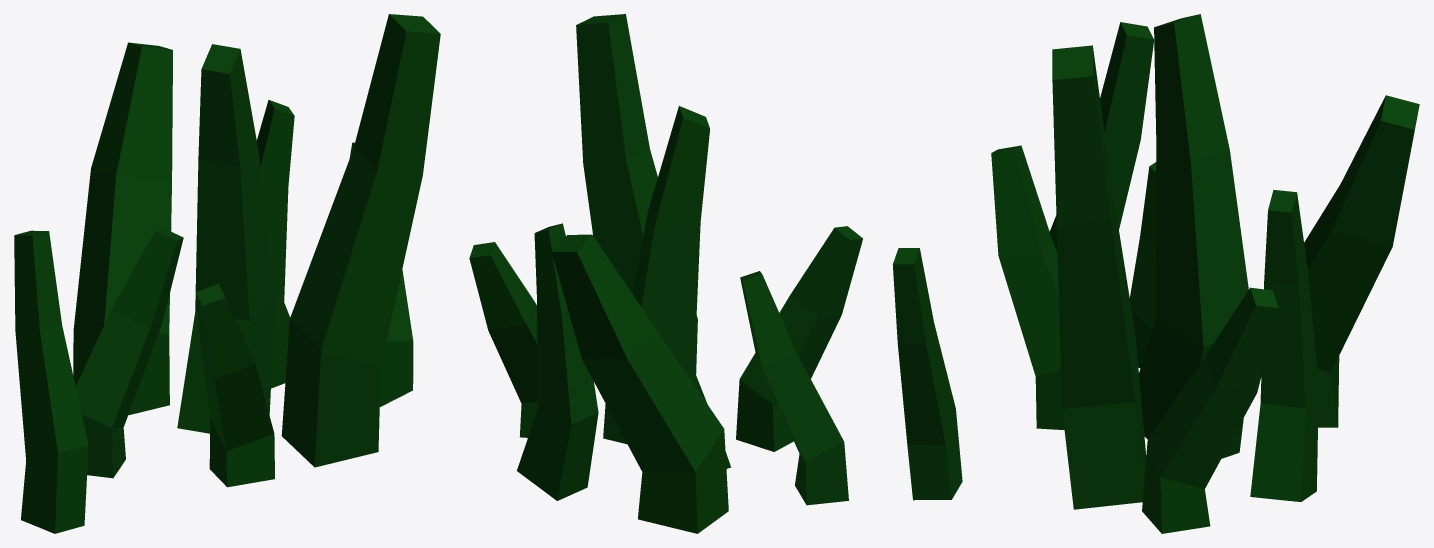
Rendered from Bush 2.FBX.
3 renders of one model, left to right at view 1: azimuth 30°, elevation 25°; view 2: azimuth 150°, elevation 25°; view 3: azimuth 270°, elevation 25°, orthographic. The views are drawn at different scales.
Parts seen in each view (by area): view 1: Box001, 1, 2, Box002, 005, 004, 003, 006; view 2: 1, Box001, 2, 003, Box002, 005, 004, 006; view 3: Box001, 2, 1, 006, 003, 004, Box002, 005.
Part boxes in pixels (x1,y1,x2,y2): Box001: (281,14,440,467); 1: (73,42,172,415); 2: (177,44,274,433); Box002: (14,230,88,533); 005: (75,227,183,478); 004: (195,283,274,487); 003: (256,100,294,388); 006: (350,142,413,406); 1: (552,234,728,533); Box001: (576,14,697,443); 2: (633,106,731,468); 003: (517,223,598,500); Box002: (892,248,962,500); 005: (740,271,848,505); 004: (736,226,862,451); 006: (469,242,537,437); Box001: (1052,45,1146,509); 2: (1139,14,1248,458); 1: (1304,95,1419,427); 006: (1142,287,1278,533); 003: (1250,189,1318,501); 004: (991,145,1064,429); Box002: (1049,22,1154,252); 005: (1129,162,1155,368).
Size of the model in its own units: 13.51 by 12.63 by 10.33.
